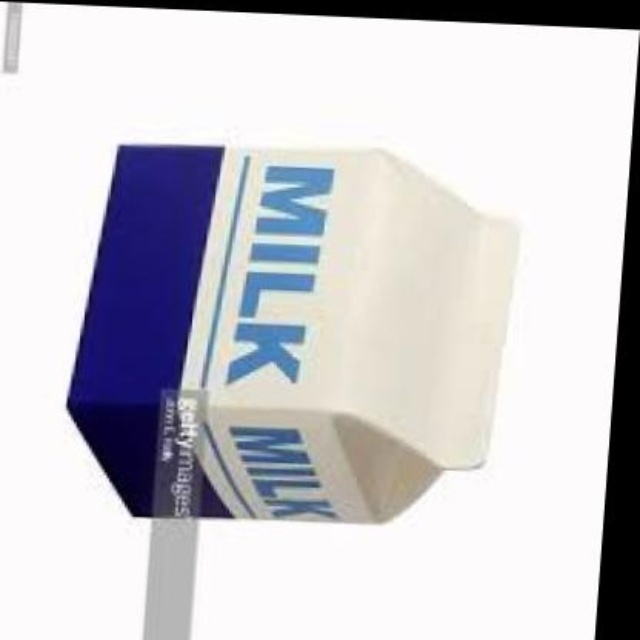trash: (68, 146, 517, 522)
